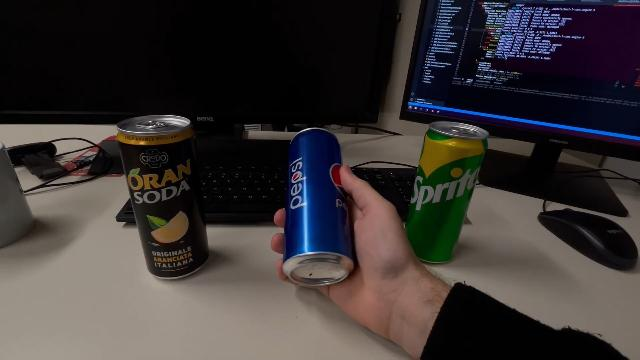OranSoda: (115, 111, 212, 283)
Pepsi: (280, 127, 356, 287)
Sprite: (404, 120, 490, 266)
